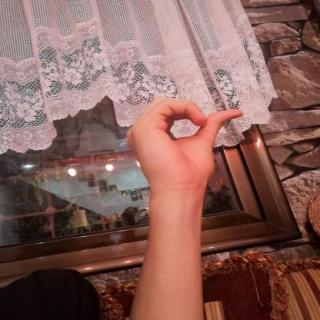WAW: (113, 90, 255, 202)
